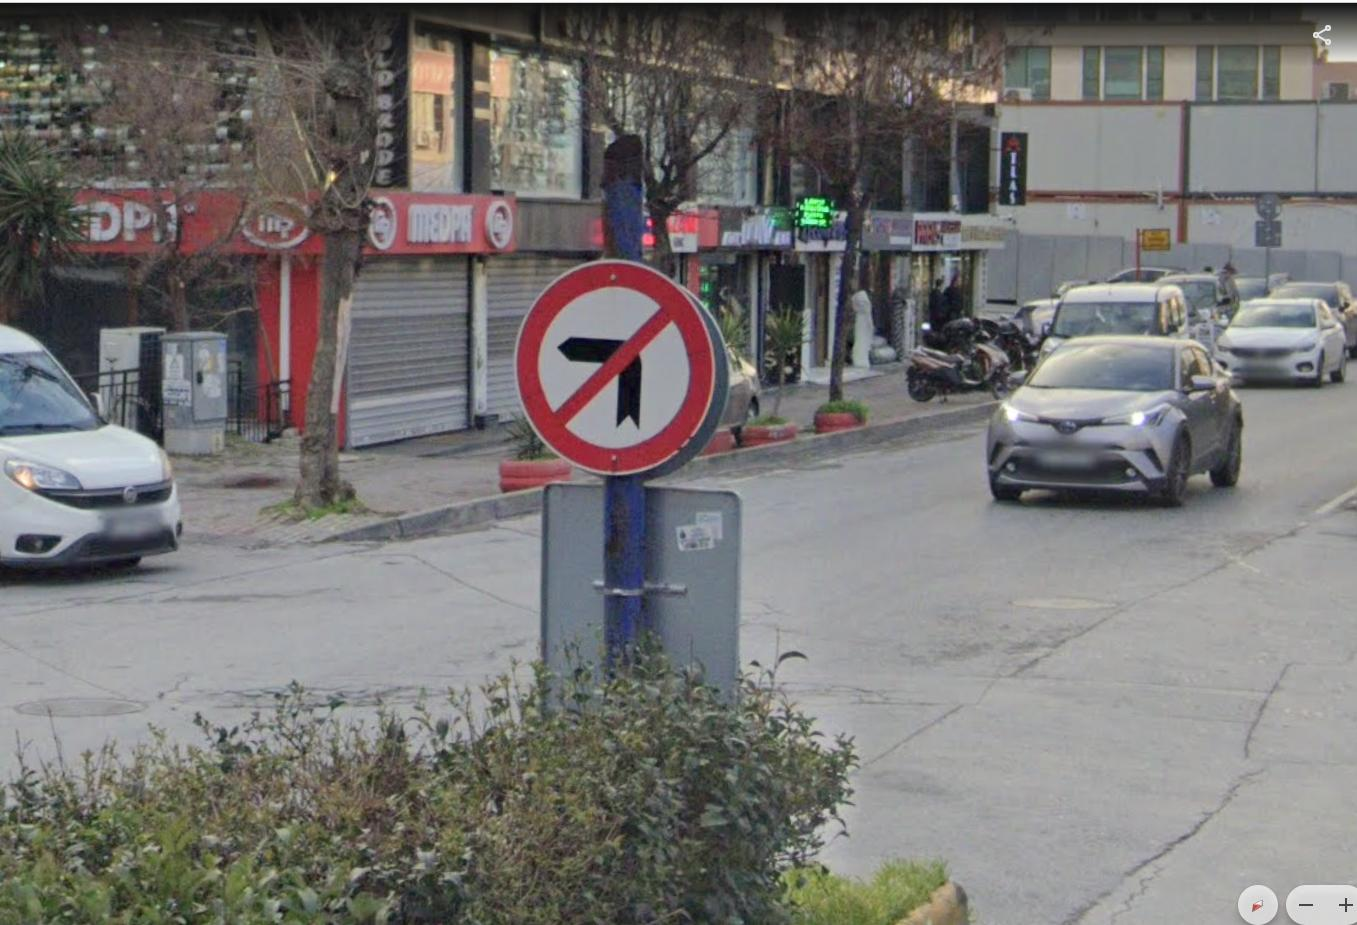leftturnsareforbidden: (520, 267, 714, 470)
